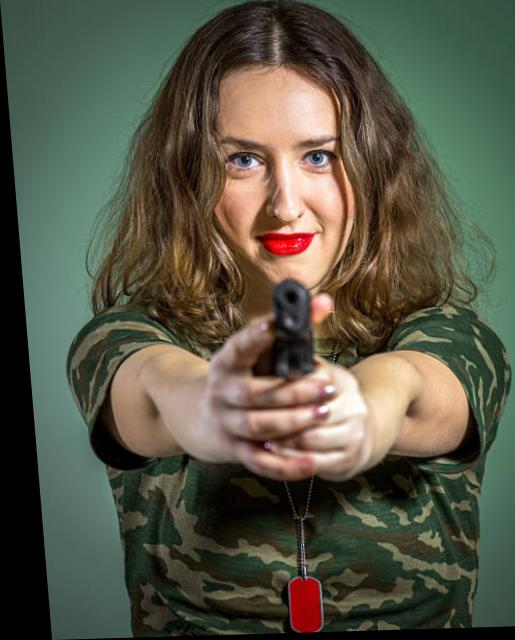other: (68, 16, 502, 638)
